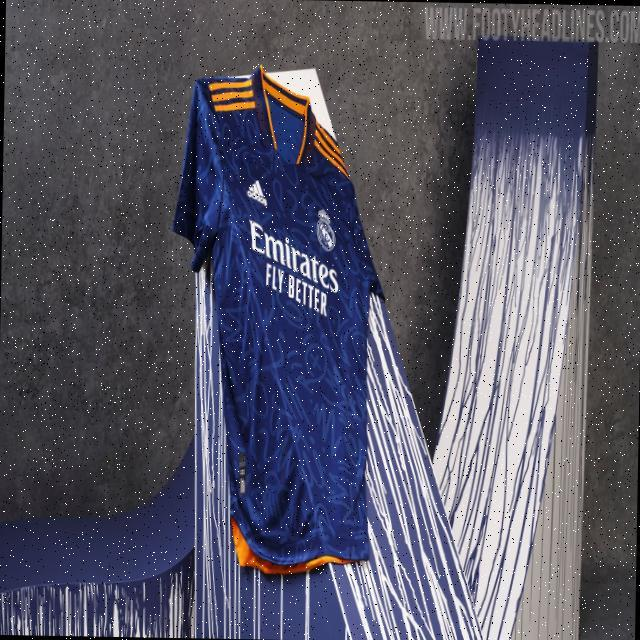Adidas: (246, 179, 268, 205)
Emirates: (246, 218, 341, 295)
